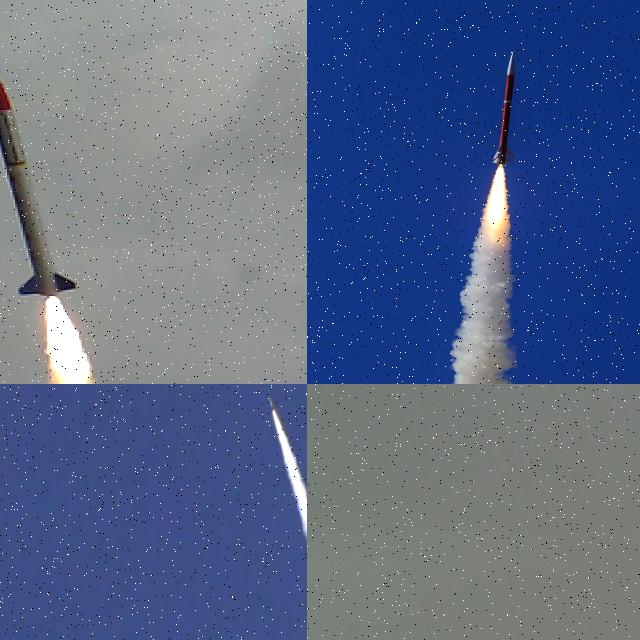Rocket: (0, 65, 77, 296), (492, 51, 517, 166), (269, 397, 275, 413)
